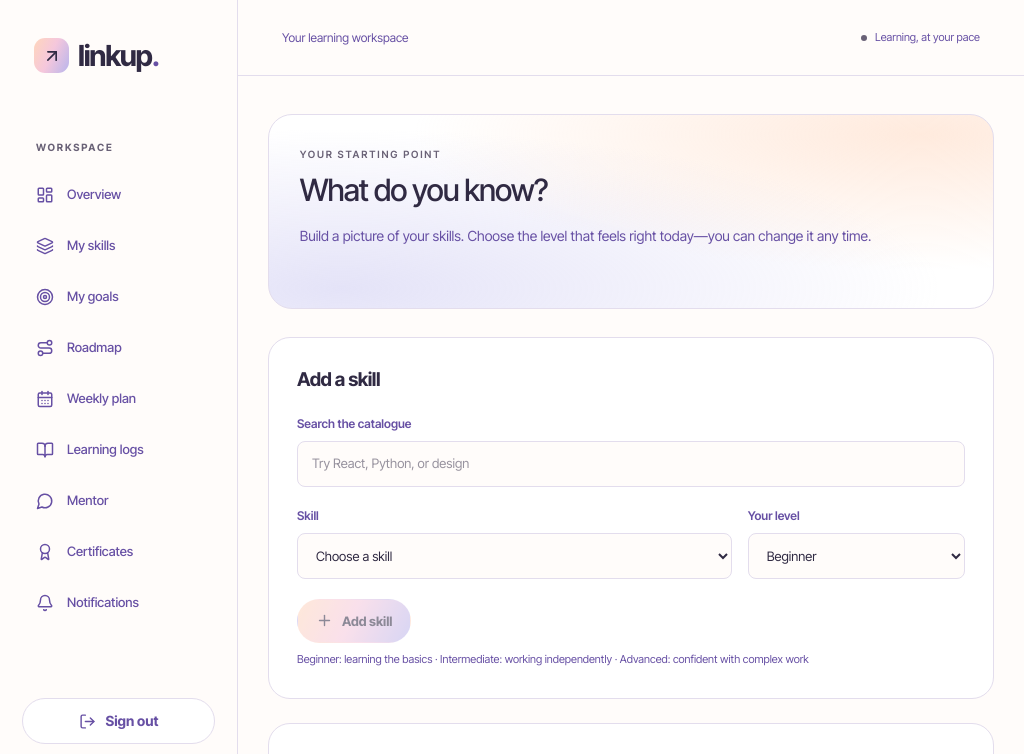
skill profile screen › shows an add failure and permits retry
The image size is (1024, 754).
Select "React · Frontend" in the dropdown labelled "Skill" at (514, 556), box [297,533,732,579]
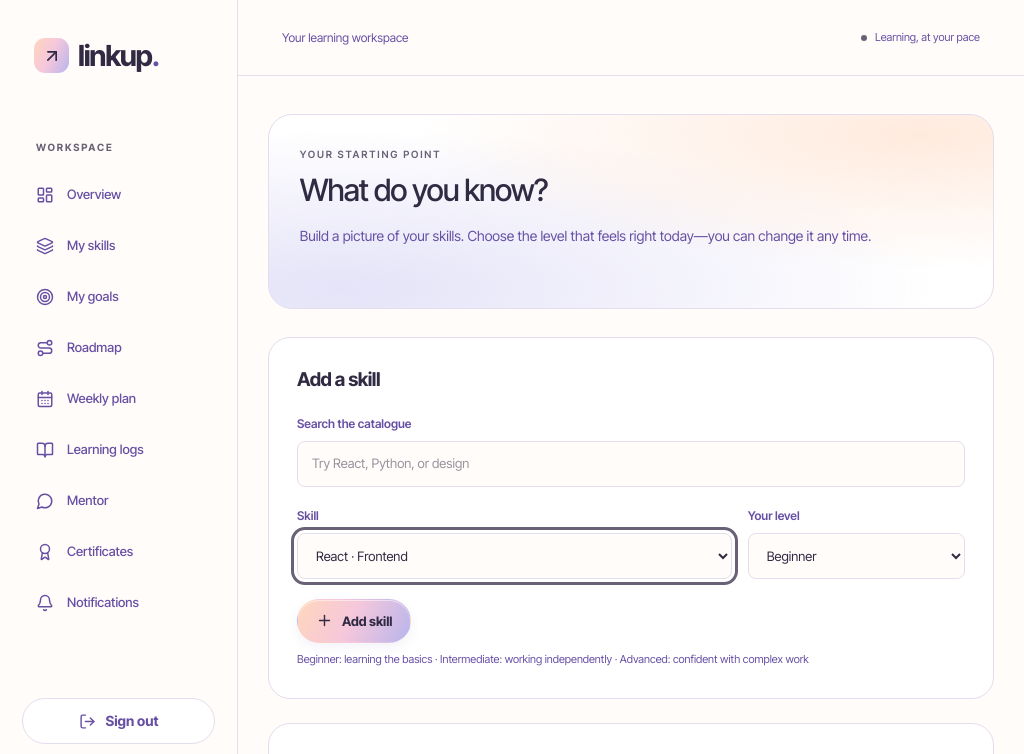
Click the button "Add skill" at (354, 621), box [297,599,412,643]
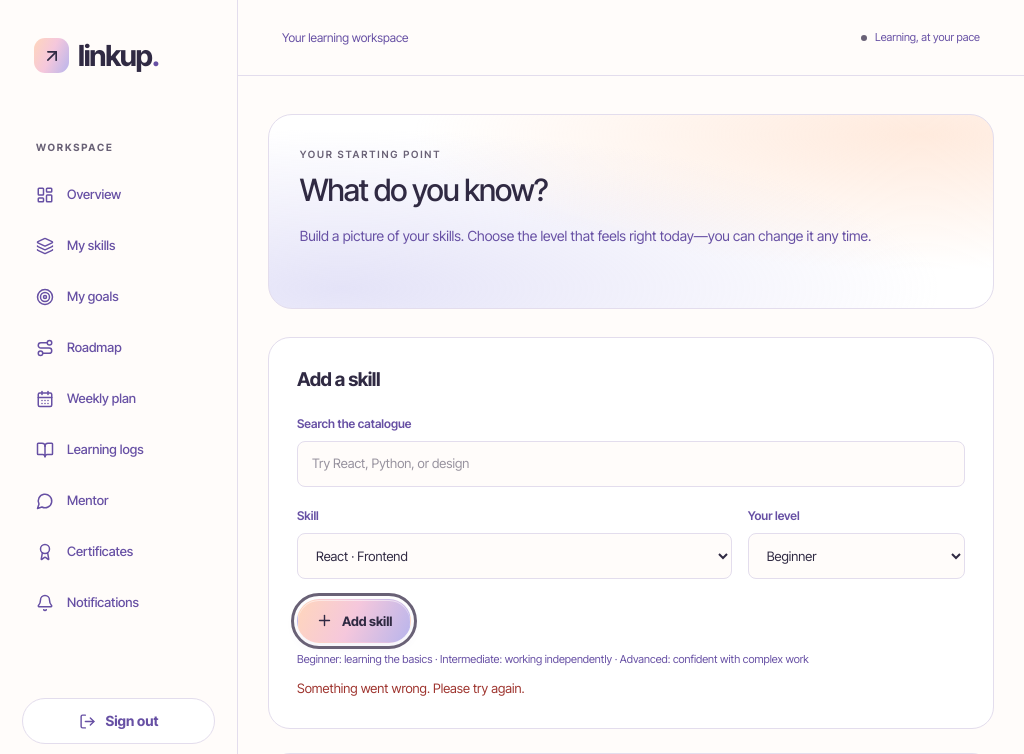
expect the message shows "Something went wrong": met, box [297,680,524,696]
Click the button "Add skill" at (354, 621), box [297,599,412,643]
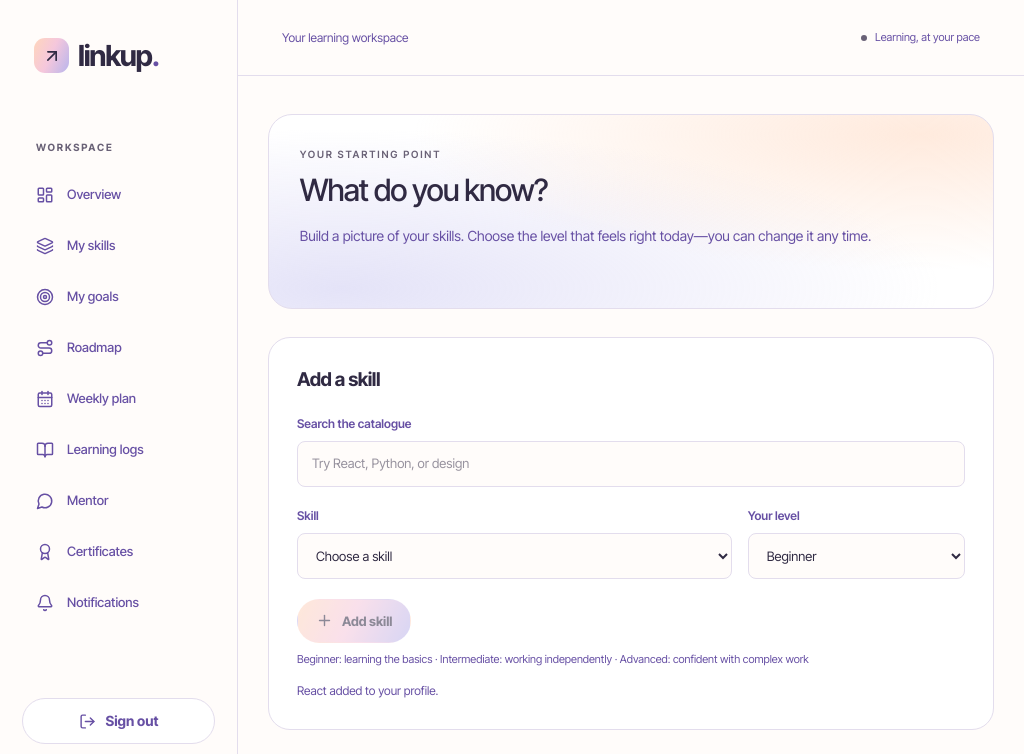
expect the text "React added to your profile." is shown: met, box [297,683,438,698]
